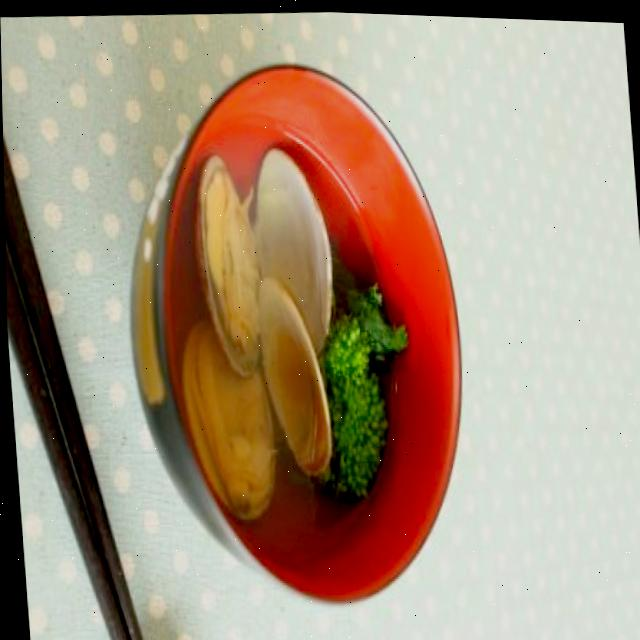汤锅炖物: (111, 45, 491, 619)
